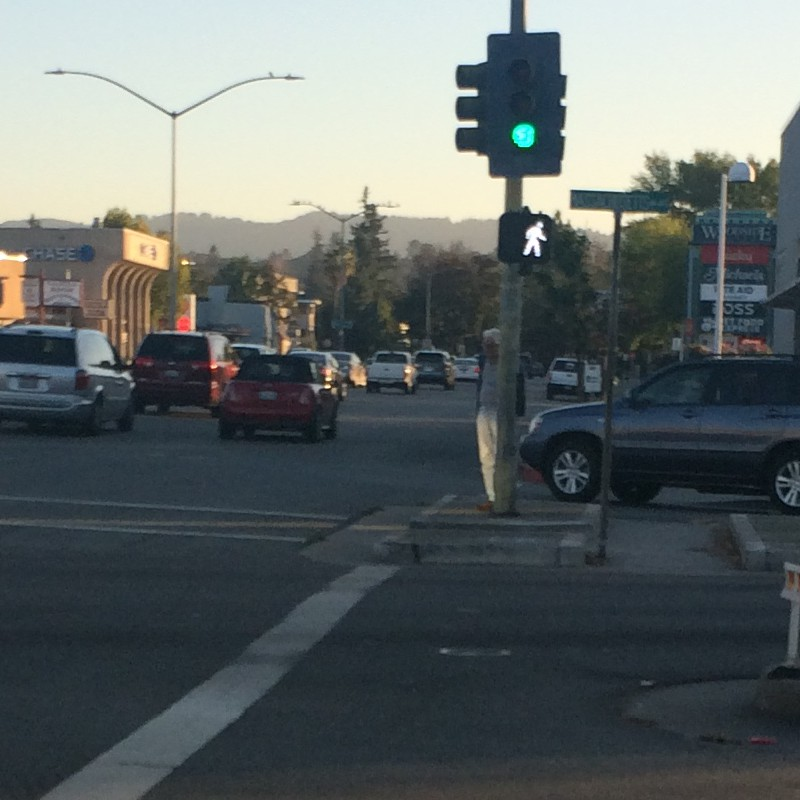go: (494, 213, 560, 269)
